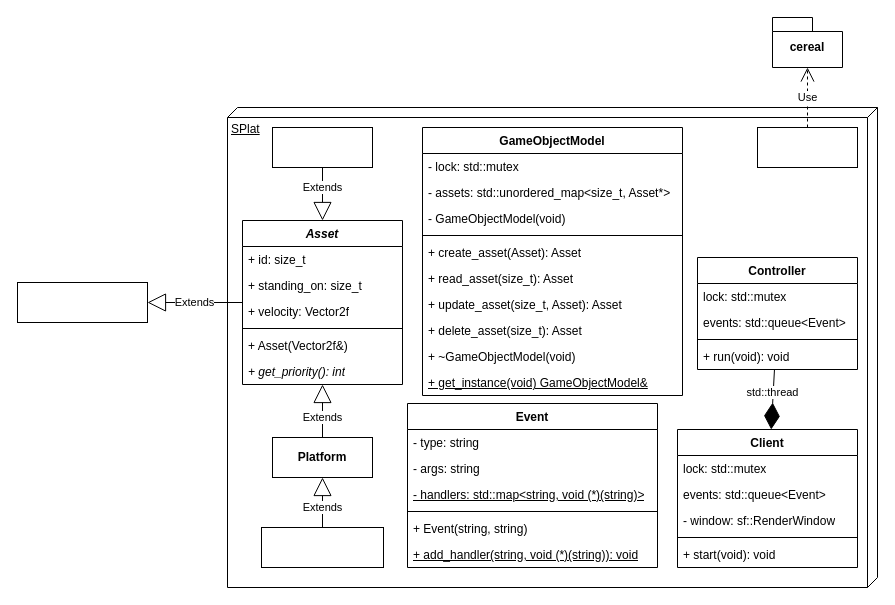
Image size: 895x605. Some labels were removed from this diagram. The shapes that lost their labels are listed below. From the top down, each one's centre as x and y in pixels, then its label:
At pixel 322 147: "Character".
At pixel 807 147: "Serialization".
At pixel 82 302: "sf::RectangleShape".
At pixel 322 547: "MovingPlatform".
